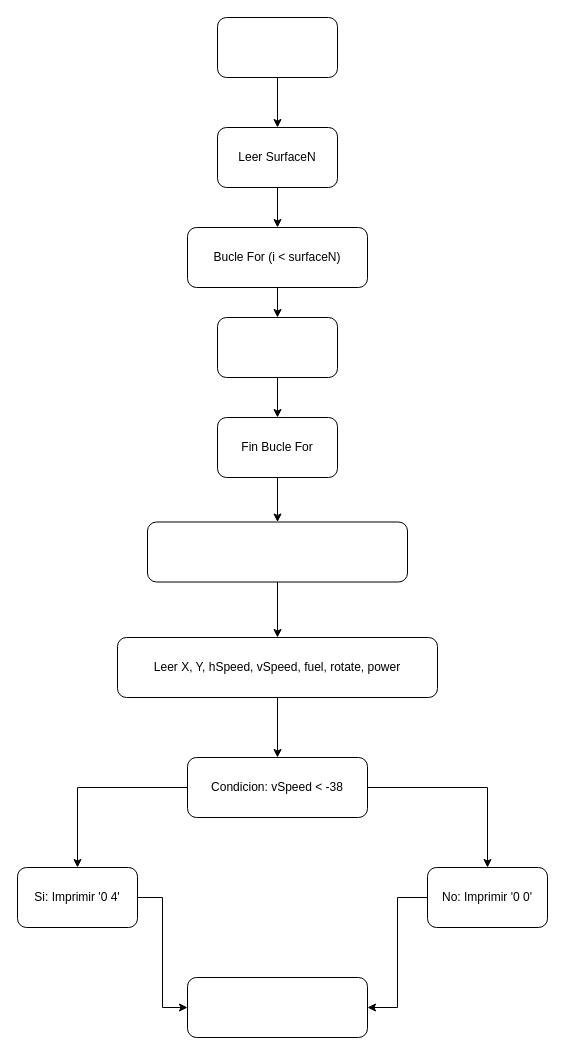
Some shapes in this 565 by 1055 pixel diagram are drawn without their labels. The shapes that lost their labels are listed below. From the top down, each one's box as (x1, y1, x2, y2) in pixels, then its label:
(216, 16, 338, 78): Inicio
(216, 316, 338, 378): Leer landX, landY
(146, 521, 408, 582): Inicio del bucle del juego (while true)
(186, 976, 368, 1038): Fin del bucle del juego (repite)
